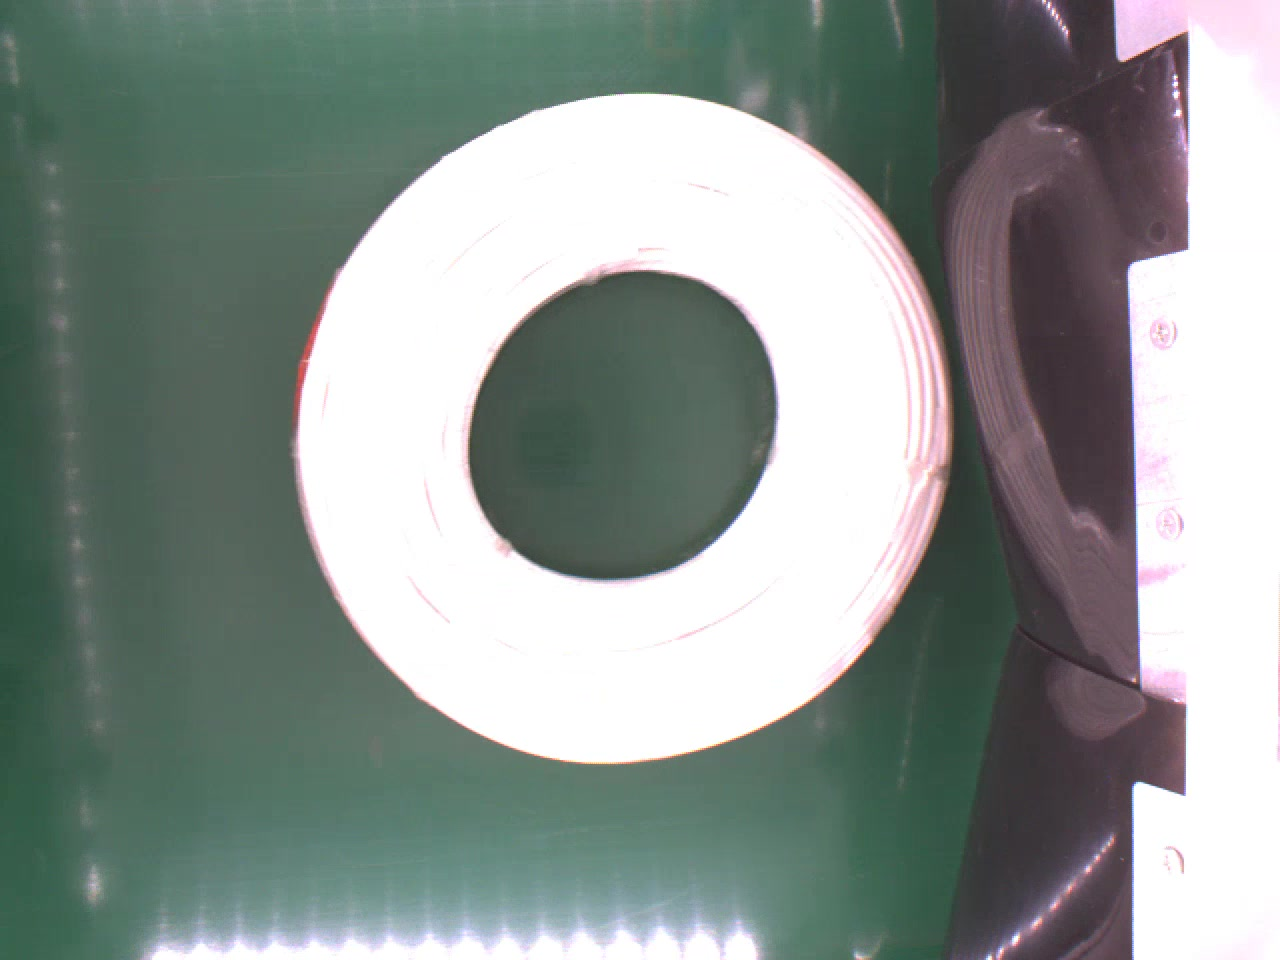white: (289, 88, 964, 782)
